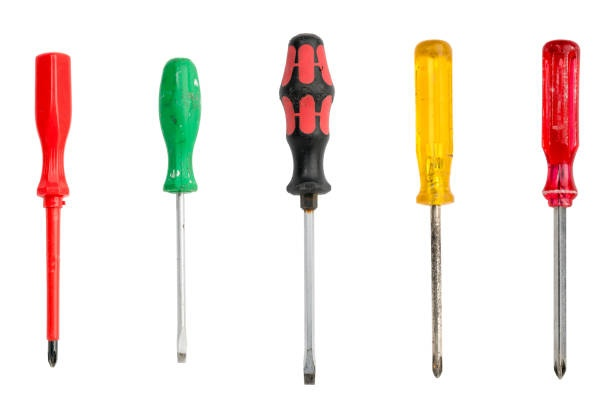screwdriver: (278, 31, 337, 387), (540, 40, 582, 380), (412, 36, 453, 379), (157, 54, 202, 364), (33, 49, 73, 375)
